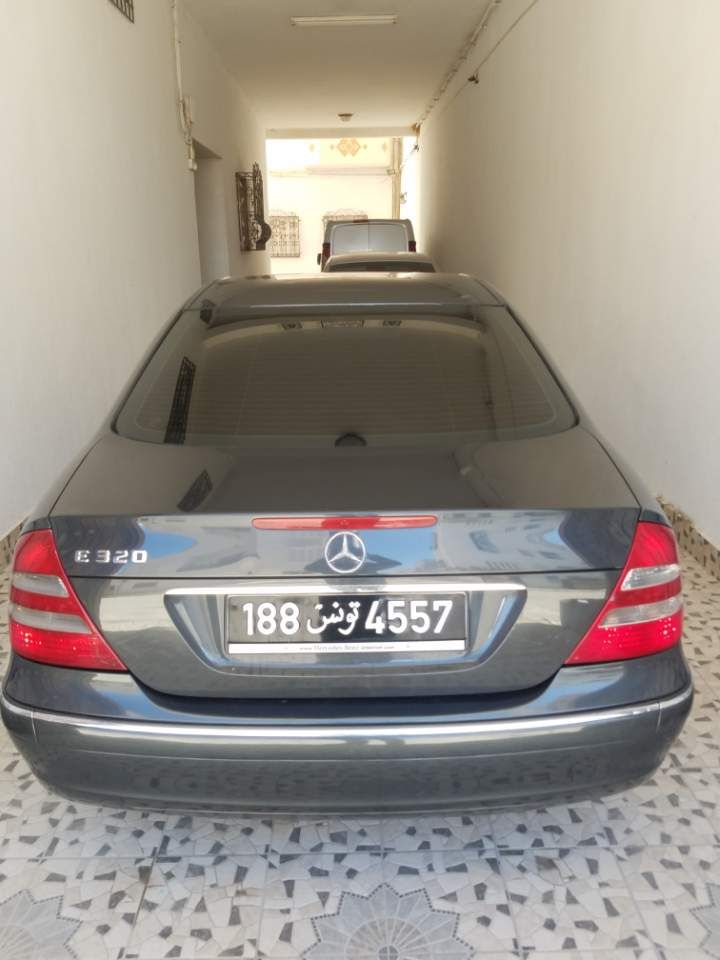LP: (225, 595, 469, 646)
